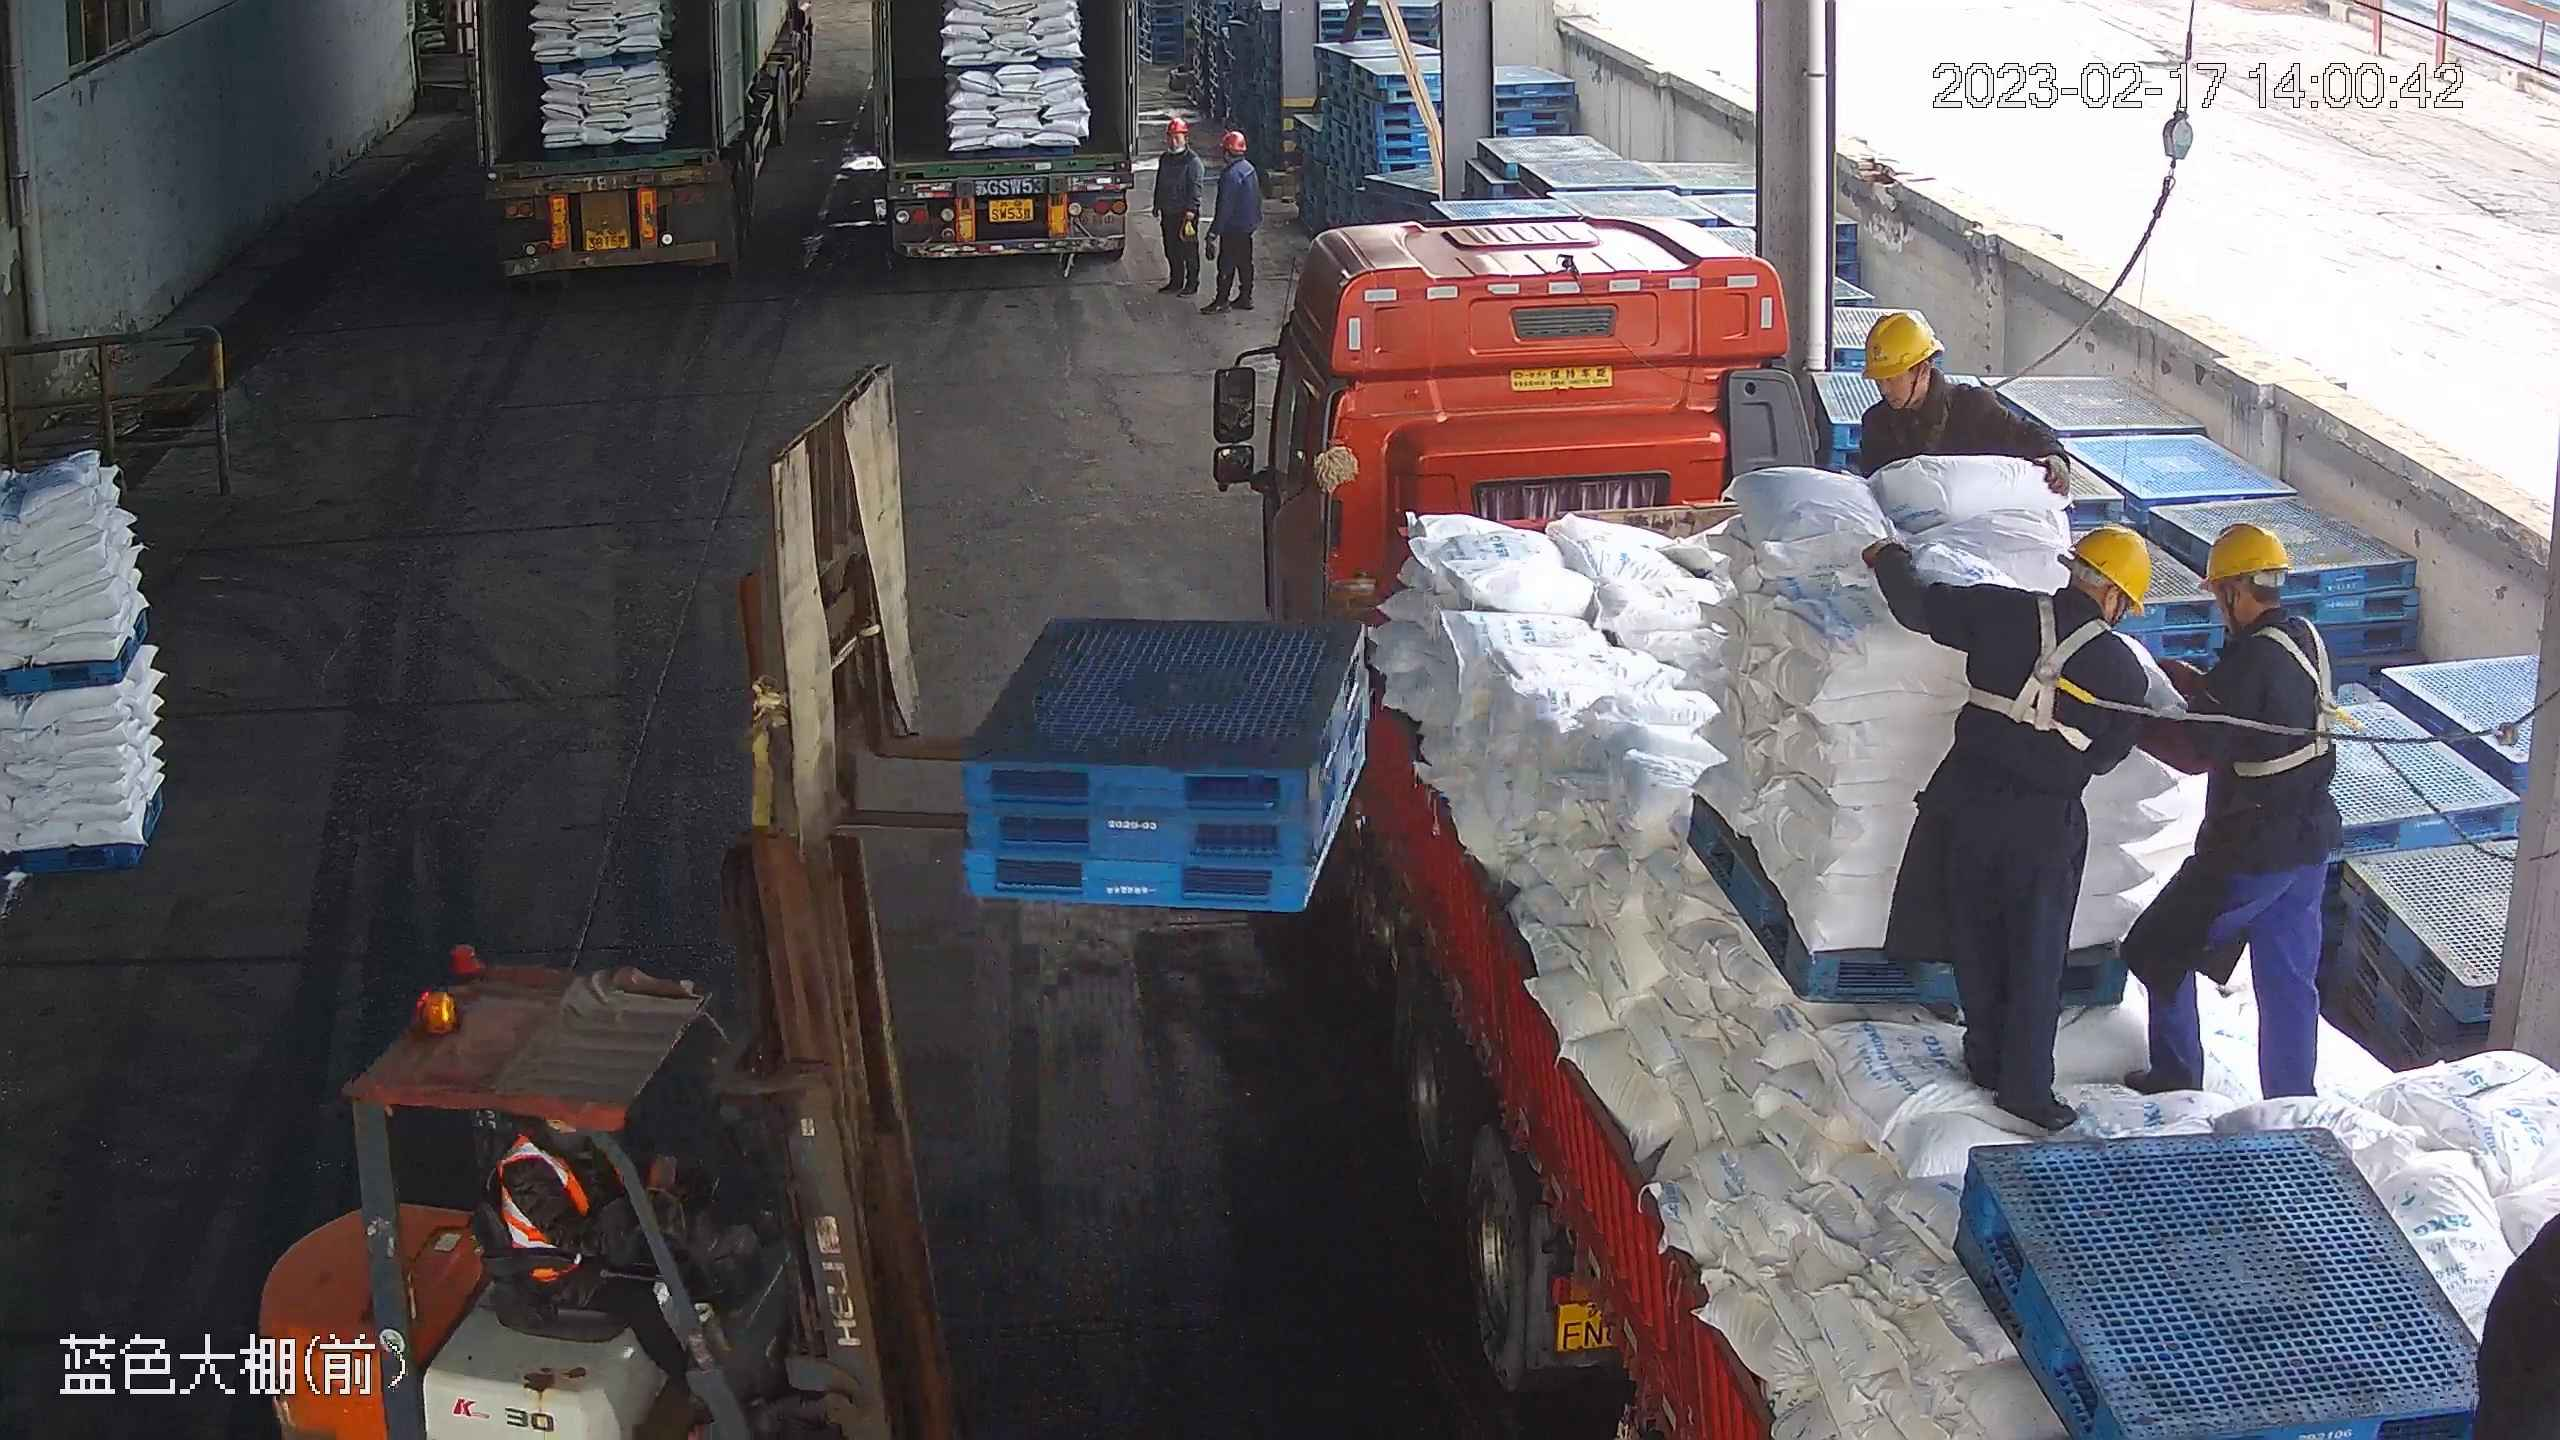belt: (1961, 596, 2125, 761), (2235, 618, 2357, 780), (1883, 407, 1968, 462)
head: (1965, 526, 2156, 709), (2158, 523, 2339, 705), (1854, 305, 2019, 451), (1208, 129, 1260, 193), (1158, 118, 1203, 182)
helmet: (2071, 528, 2153, 610), (1859, 313, 1944, 383), (2199, 522, 2294, 586), (1220, 132, 1249, 153), (1165, 119, 1189, 134)
people: (1859, 528, 2149, 1130), (2151, 522, 2335, 1100), (486, 1111, 735, 1412), (1204, 129, 1263, 315), (1152, 117, 1201, 298)
truck: (1208, 215, 2560, 1440), (471, 1, 817, 300), (871, 1, 1146, 276)
